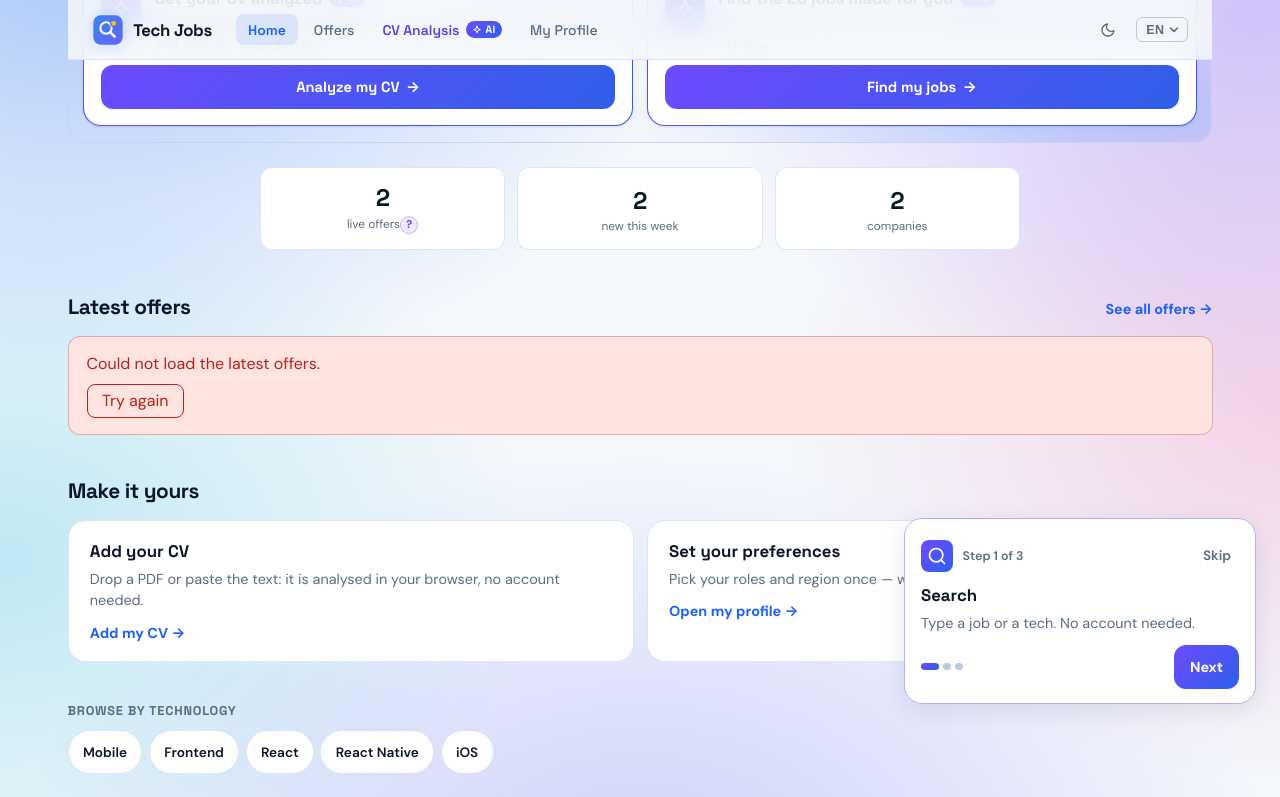
it: HomePage (integration) › shows an error with a retry when the offers fail
The image size is (1280, 797).
(page scrolled)
Expected: the message shows "Could not load the latest offers.", [86,352,320,374]
Click the button "Try again".
click(135, 400)  # box [86,383,184,417]
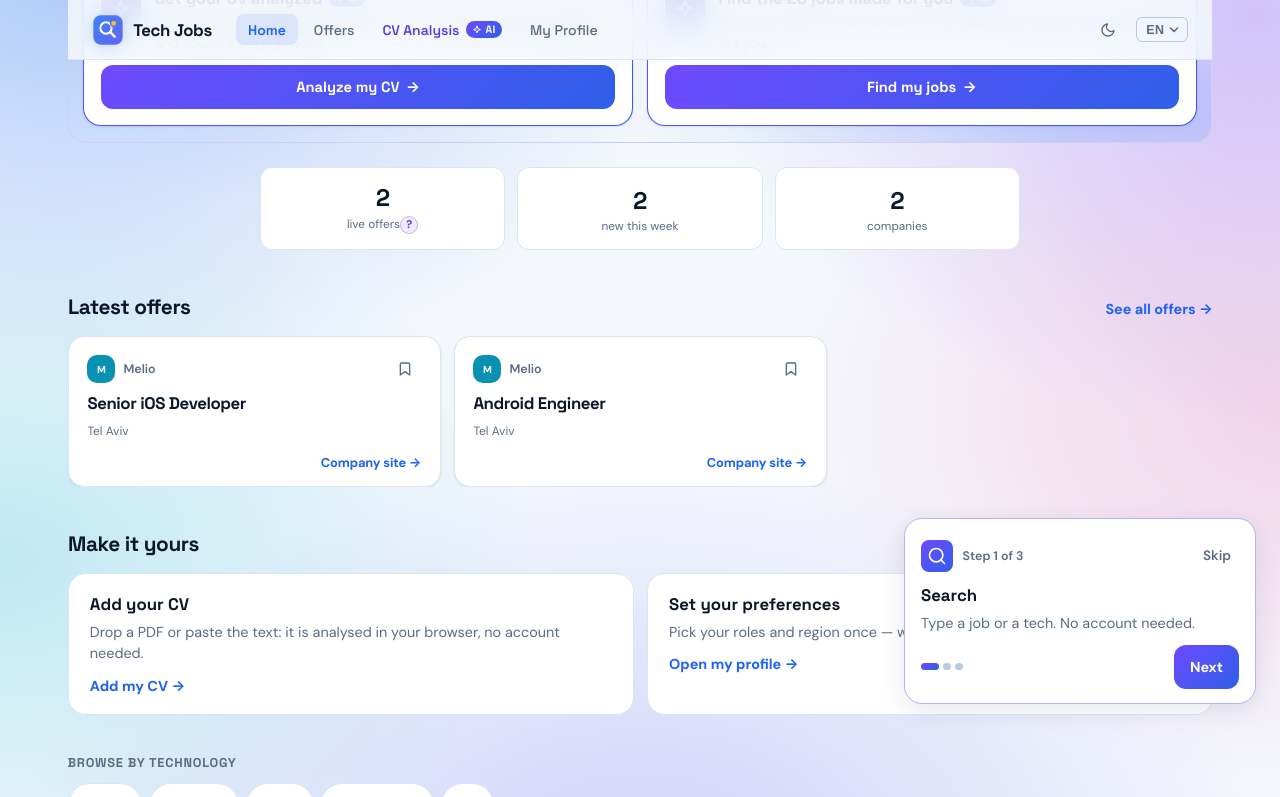
Expected: the link "Senior iOS Developer" is shown, [87,392,246,414]
